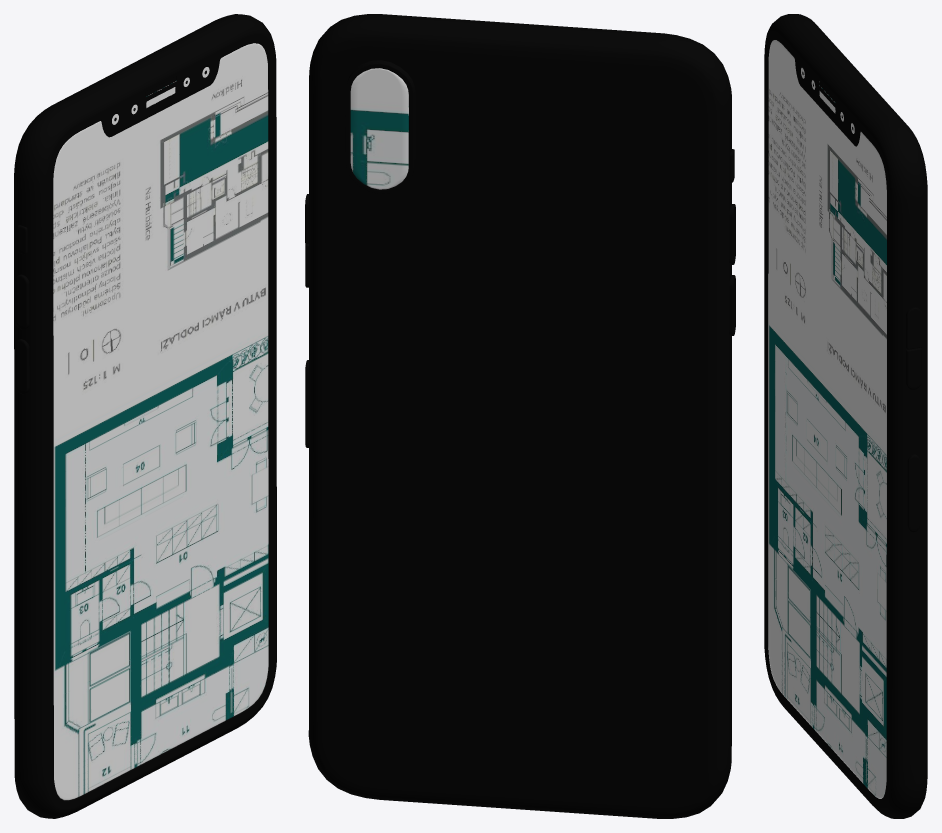
Rendered from PhoneFinalWorking.glb.
3 renders of one model, left to right at view 1: azimuth 30°, elevation 25°; view 2: azimuth 150°, elevation 25°; view 3: azimuth 270°, elevation 25°, orthographic. The views are drawn at different scales.
Visible parts, largest first — view 1: iphone 10.001; view 2: iphone 10.001; view 3: iphone 10.001.
Boxes of the visible parts, x1,y1,x2,y2 form: iphone 10.001: [14, 14, 276, 818]; iphone 10.001: [305, 14, 735, 818]; iphone 10.001: [764, 14, 927, 818].
Size of the model in its own units: 0.6243 by 1.31 by 0.2806.
Materials: 2 (1 with a texture image).
